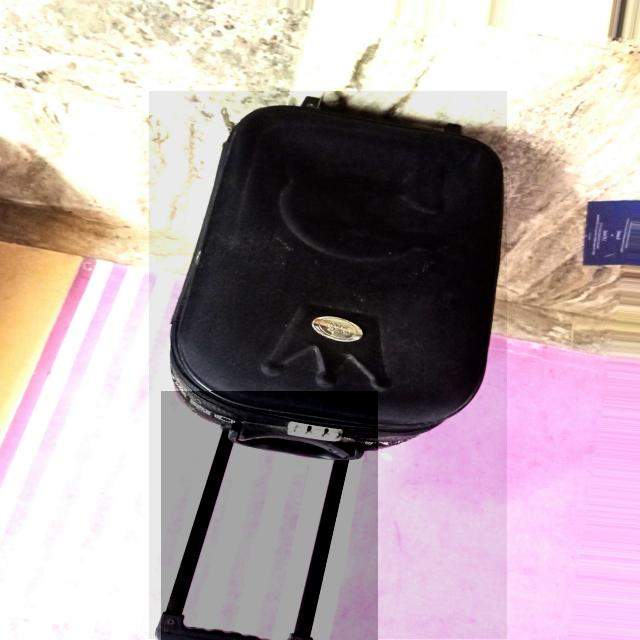Bag: (143, 79, 515, 640)
Handle: (161, 407, 370, 640)
